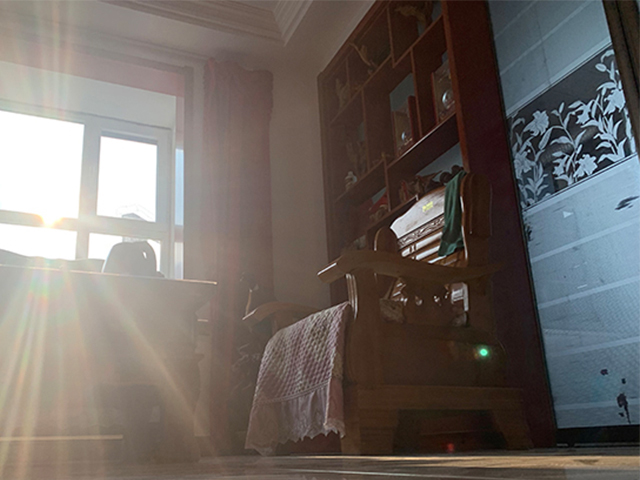sofa: (240, 169, 537, 458)
